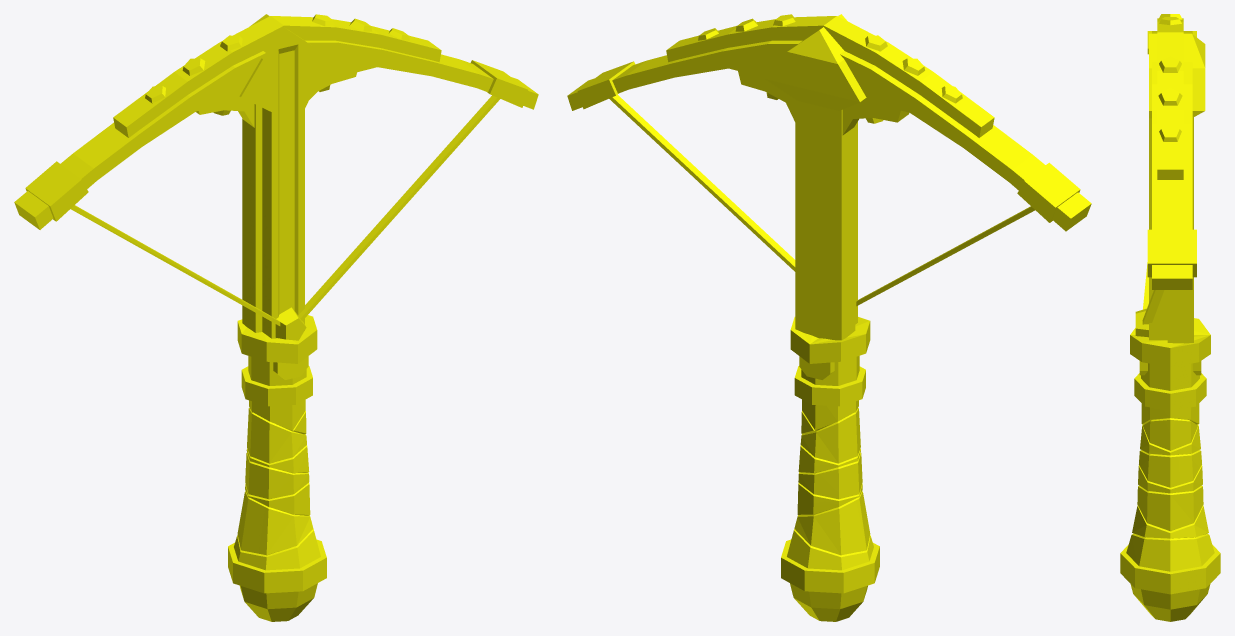
Rendered from _crossbow_7.glb.
3 renders of one model, left to right at view 1: azimuth 30°, elevation 25°; view 2: azimuth 150°, elevation 25°; view 3: azimuth 270°, elevation 25°, orthographic. The views are drawn at different scales.
Visible parts, largest first — view 1: crossbow_7; view 2: crossbow_7; view 3: crossbow_7.
Boxes of the visible parts, box(x1,y1,x2,y2) form: crossbow_7: box(14, 14, 538, 621); crossbow_7: box(567, 14, 1091, 621); crossbow_7: box(1120, 14, 1220, 621).
Size of the model in its own units: 0.5959 by 0.6697 by 0.1049.
1 material, 1 textured.
